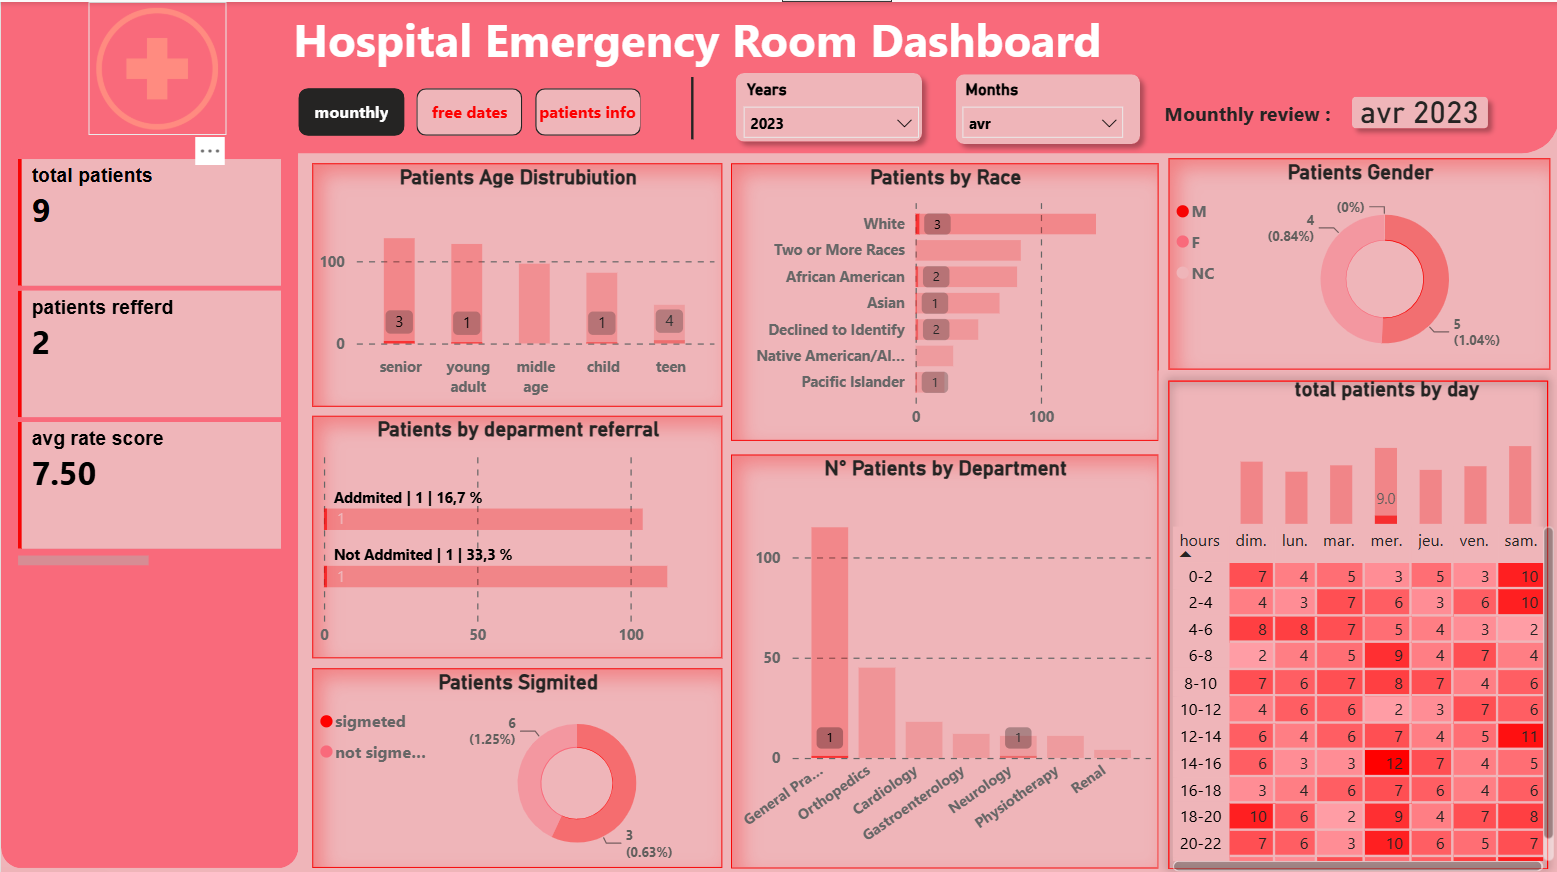

This screenshot's page, from the dashboard's own definition file:
{"tool":"powerbi","page":{"name":"mounthly","canvas":[1280,720],"ordinal":0},"visuals":[{"type":"shape","box":[0,0,244.3,711.5],"z":0},{"type":"cardVisual","fields":{"Data":["a mesures.total patients","a mesures.patients refferd","a mesures.avg rate score","a mesures.patients avg wtime"]},"box":[8.9,124.1,226.1,345.8],"z":1000},{"type":"clusteredColumnChart","title":"Patients Age Distrubiution","fields":{"Category":["Hospital ER_Data.Patient Age groupes"],"Y":["CountNonNull(Hospital ER_Data.Patient Age groupes)"]},"box":[255.4,132.1,336.9,200.4],"z":2000},{"type":"clusteredBarChart","title":"Patients by Race","fields":{"Category":["Hospital ER_Data.Patient Race"],"Y":["CountNonNull(Hospital ER_Data.Patient Race)"]},"box":[599.4,132.1,351.1,227.9],"z":3000},{"type":"donutChart","title":"Patients Gender","fields":{"Category":["Hospital ER_Data.Patient Gender"],"Y":["CountNonNull(Hospital ER_Data.Patient Gender)"]},"box":[958.5,128.6,313.9,173.8],"z":4000},{"type":"clusteredBarChart","title":"Patients by deparment referral","fields":{"Category":["Hospital ER_Data.Patient Admission Flag"],"Y":["a mesures.cst for 0","a mesures.patients refferd"]},"box":[255.4,339.6,336.9,199.5],"z":5000},{"type":"image","box":[0,0,244.6,107.2],"z":6000},{"type":"shape","box":[0,0,1280,124.4],"z":7000},{"type":"donutChart","title":"Patients Sigmited","fields":{"Category":["Hospital ER_Data.sigmeted"],"Y":["CountNonNull(Hospital ER_Data.sigmeted)"]},"box":[255.6,546.7,336.7,164.3],"z":8000},{"type":"clusteredColumnChart","title":"N° Patients by Department","fields":{"Category":["Hospital ER_Data.Department Referral"],"Y":["CountNonNull(Hospital ER_Data.Department Referral)"]},"box":[599.4,371.5,351.1,339.6],"z":9000},{"type":"shape","box":[950.5,302.4,328.1,417.6],"z":10000},{"type":"pivotTable","fields":{"Rows":["Hospital ER_Data.hours"],"Columns":["date Table.day"],"Values":["a mesures.total patients"]},"box":[957.6,426.5,322.8,293.5],"z":11000},{"type":"clusteredColumnChart","fields":{"Category":["date Table.day"],"Y":["a mesures.total patients"]},"box":[1013.5,307.7,250,126.8],"z":12000},{"type":"shape","box":[594.1,49.7,171,74.4],"z":12500,"group":"g2"},{"type":"shape","box":[775,50.5,169.4,75.4],"z":12500,"group":"g4"},{"type":"shape","box":[1100.4,68.9,129.7,43.9],"z":12500,"group":"g3"},{"type":"group","id":"g1","title":"Groupe 2","box":[775,50.5,169.4,75.4],"z":13000},{"type":"slicer","fields":{"Values":["date Table.month name"]},"box":[779,59.7,152.7,54.5],"z":13000,"group":"g4"},{"type":"slicer","fields":{"Values":["date Table.year"]},"box":[599.6,60.4,164,57.4],"z":13000,"group":"g2"},{"type":"group","id":"g2","title":"Groupe 2","box":[594.1,49.7,171,74.4],"z":14000},{"type":"card","fields":{"Values":["Min(date Table.month and year)"]},"box":[1101.8,66.7,127.7,45.2],"z":14002,"group":"g3"},{"type":"textbox","box":[235,0,735.1,64.7],"z":15000},{"type":"group","id":"g3","title":"Groupe 1","box":[1100.4,66.7,129.7,46.1],"z":16000},{"type":"textbox","box":[950.5,74.5,194.2,31.9],"z":17000},{"type":"image","box":[71.8,0,112.6,110],"z":18000},{"type":"shape","box":[561.3,62.1,12.4,51.4],"z":19000},{"type":"group","id":"g4","title":"Groupe 3","box":[775,50.5,169.4,75.4],"z":19001,"group":"g1"},{"type":"pageNavigator","box":[244.7,70.9,282,39],"z":20000}]}

Visuals, with their boxes in screenshot pixels (x1, y1, x2, y2), scaled from the page's 1280x720 canvas onto the 1557x872 screenshot:
shape: (0,0,297,862)
cardVisual - a mesures.total patients x a mesures.patients refferd: (11,150,286,569)
"Patients Age Distrubiution" clusteredColumnChart: (311,160,720,403)
"Patients by Race" clusteredBarChart: (729,160,1156,436)
"Patients Gender" donutChart: (1166,156,1548,366)
"Patients by deparment referral" clusteredBarChart: (311,411,720,653)
image: (0,0,298,130)
shape: (0,0,1556,151)
"Patients Sigmited" donutChart: (311,662,720,861)
"N° Patients by Department" clusteredColumnChart: (729,450,1156,861)
shape: (1156,366,1555,871)
pivotTable - Hospital ER_Data.hours x date Table.day: (1165,517,1556,871)
clusteredColumnChart - date Table.day x a mesures.total patients: (1233,373,1537,526)
shape: (723,60,931,150)
shape: (943,61,1149,152)
shape: (1339,83,1496,137)
"Groupe 2" group: (943,61,1149,152)
slicer - date Table.month name: (948,72,1133,138)
slicer - date Table.year: (729,73,929,143)
"Groupe 2" group: (723,60,931,150)
card - Min(date Table.month and year): (1340,81,1496,136)
textbox: (286,0,1180,78)
"Groupe 1" group: (1339,81,1496,137)
textbox: (1156,90,1392,129)
image: (87,0,224,133)
shape: (683,75,698,137)
"Groupe 3" group: (943,61,1149,152)
pageNavigator: (298,86,641,133)
